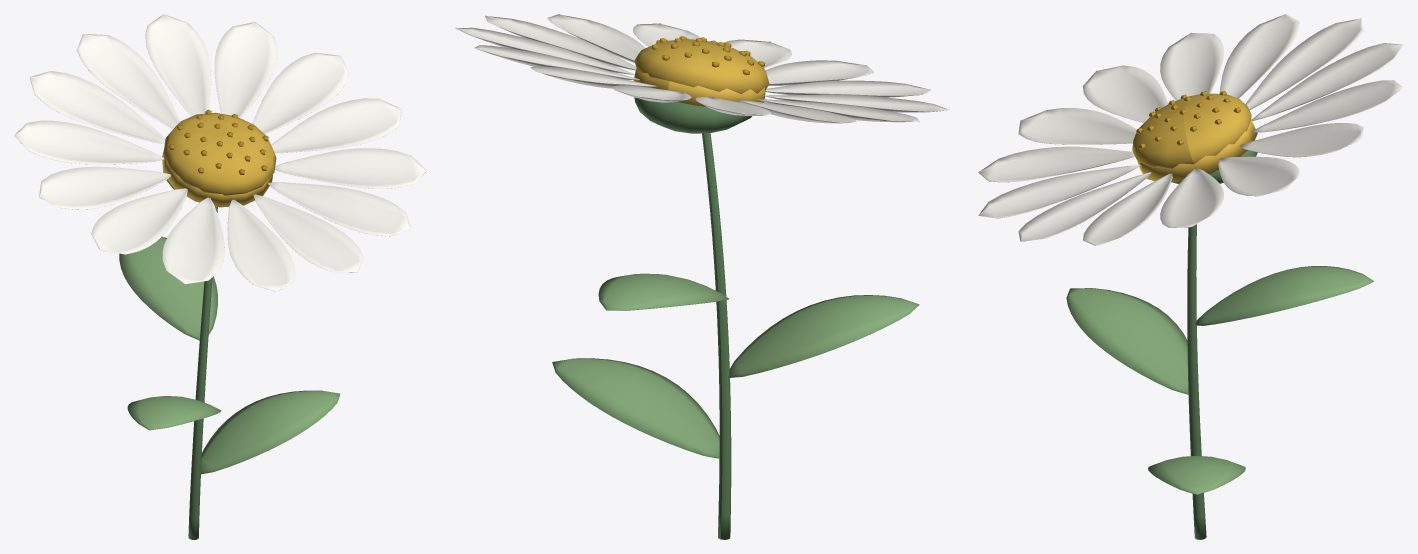
The model's file is daisy-common-v2.glb.
3 renders of one model, left to right at view 1: azimuth 30°, elevation 25°; view 2: azimuth 150°, elevation 25°; view 3: azimuth 270°, elevation 25°, orthographic. The views are drawn at different scales.
Visible parts, largest first — view 1: daisy-common-v2-petal, daisy-common-v2-leaf, daisy-common-v2-center, daisy-common-v2-stem, daisy-common-v2-pollen; view 2: daisy-common-v2-petal, daisy-common-v2-leaf, daisy-common-v2-stem, daisy-common-v2-center, daisy-common-v2-pollen; view 3: daisy-common-v2-petal, daisy-common-v2-leaf, daisy-common-v2-center, daisy-common-v2-stem, daisy-common-v2-pollen.
Part boxes in pixels (bbox=[...]): daisy-common-v2-petal: bbox=[14, 14, 426, 291]; daisy-common-v2-leaf: bbox=[119, 237, 340, 474]; daisy-common-v2-center: bbox=[162, 112, 276, 207]; daisy-common-v2-stem: bbox=[166, 179, 217, 539]; daisy-common-v2-pollen: bbox=[169, 109, 268, 174]; daisy-common-v2-petal: bbox=[455, 14, 949, 123]; daisy-common-v2-leaf: bbox=[552, 273, 919, 458]; daisy-common-v2-stem: bbox=[634, 97, 751, 539]; daisy-common-v2-center: bbox=[633, 39, 769, 106]; daisy-common-v2-pollen: bbox=[652, 36, 765, 75]; daisy-common-v2-petal: bbox=[978, 14, 1403, 245]; daisy-common-v2-leaf: bbox=[1066, 266, 1373, 494]; daisy-common-v2-center: bbox=[1132, 93, 1257, 182]; daisy-common-v2-stem: bbox=[1172, 150, 1257, 539]; daisy-common-v2-pollen: bbox=[1136, 91, 1240, 149].
Bounding box in the file's own units: 1.31 × 1.52 × 1.21.
